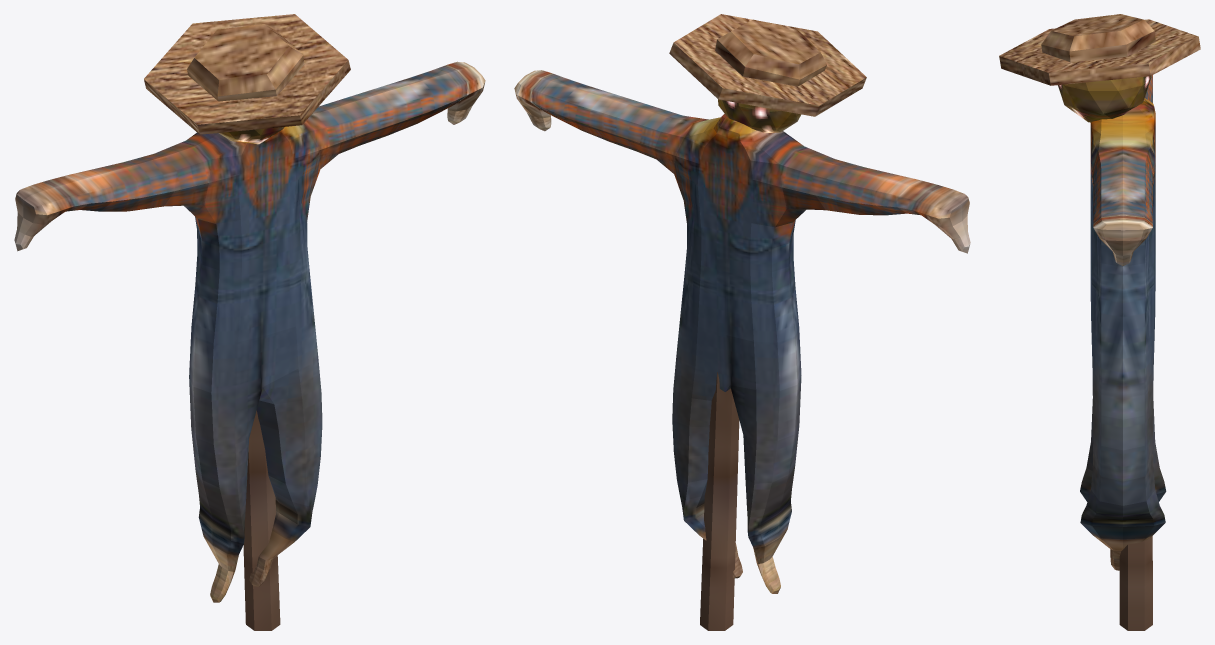
The model's file is SM_Scarecrow.fbx.
3 renders of one model, left to right at view 1: azimuth 30°, elevation 25°; view 2: azimuth 150°, elevation 25°; view 3: azimuth 270°, elevation 25°, orthographic. The views are drawn at different scales.
Visible parts, largest first — view 1: Cylinder.002; view 2: Cylinder.002; view 3: Cylinder.002.
Boxes of the visible parts, x1,y1,x2,y2 form: Cylinder.002: [14, 14, 485, 630]; Cylinder.002: [514, 14, 970, 630]; Cylinder.002: [999, 14, 1200, 630].
Bounding box in the file's own units: 234 × 294 × 91.16.
